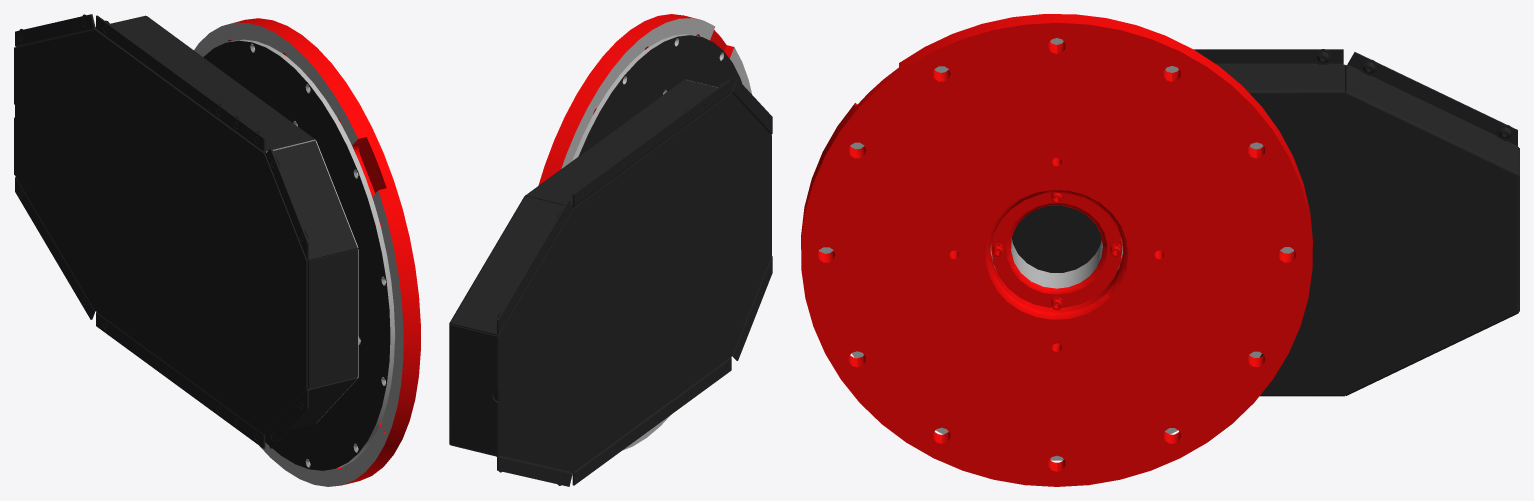
File: Driver_Faceplate_P1.dae
3 views of the same model, side by side, from view 1: azimuth 30°, elevation 25°; view 2: azimuth 150°, elevation 25°; view 3: azimuth 270°, elevation 25° (orthographic). The views are drawn at different scales.
Parts seen in each view (by area): view 1: Node_000002CA53F9C260 (×3); view 2: Node_000002CA53F9C260 (×3); view 3: Node_000002CA53F9C260 (×3).
Boxes of the visible parts, box(x1,y1,x2,y2) form: Node_000002CA53F9C260 (×3): box(14, 14, 420, 486); Node_000002CA53F9C260 (×3): box(449, 14, 772, 486); Node_000002CA53F9C260 (×3): box(801, 14, 1519, 486).
Size of the model in its own units: 0.089 by 0.5 by 0.7018.
